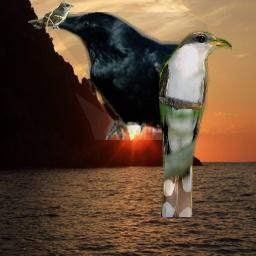Crow: (48, 12, 208, 140)
Cuckoo: (157, 30, 232, 217), (28, 1, 74, 29)
